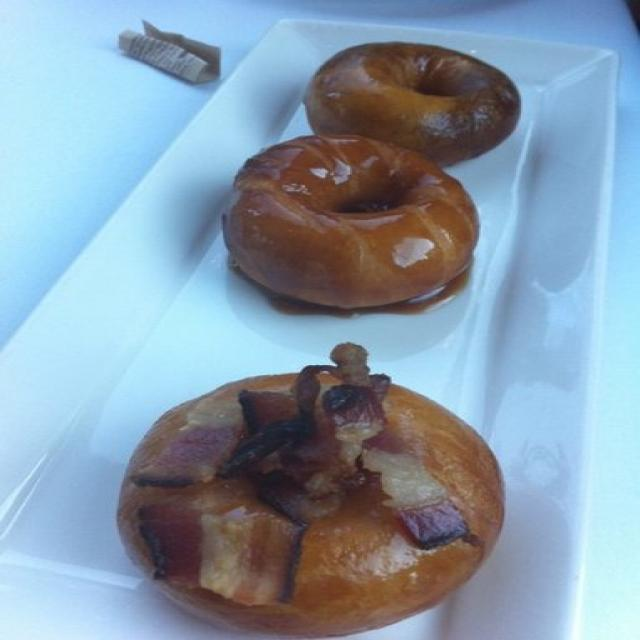Donuts: (120, 37, 529, 640)
